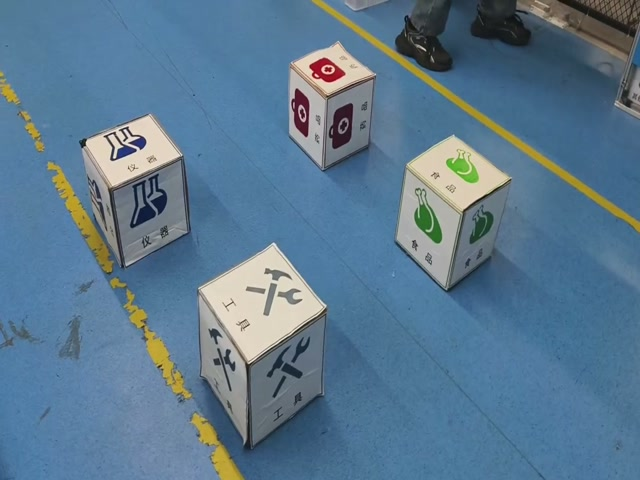Cube_food: (404, 133, 512, 216)
Cube_ins: (78, 111, 185, 191)
Cube_medicine: (291, 44, 375, 97)
Cube_tool: (195, 237, 325, 367)
